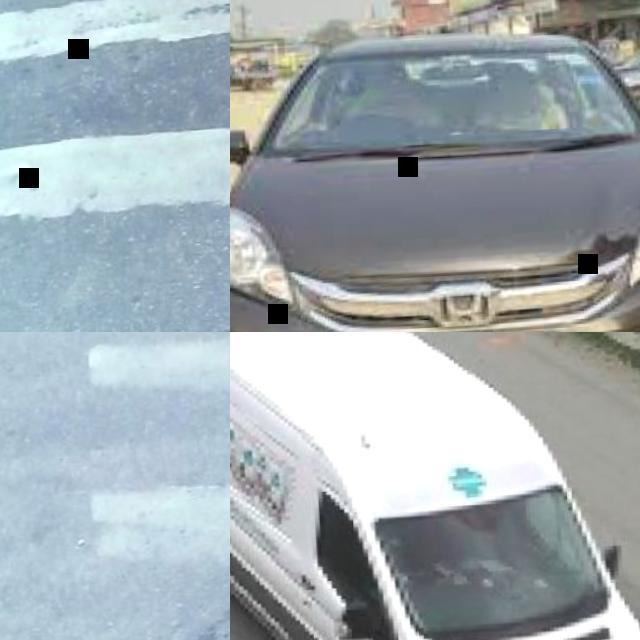car: (233, 17, 639, 355)
